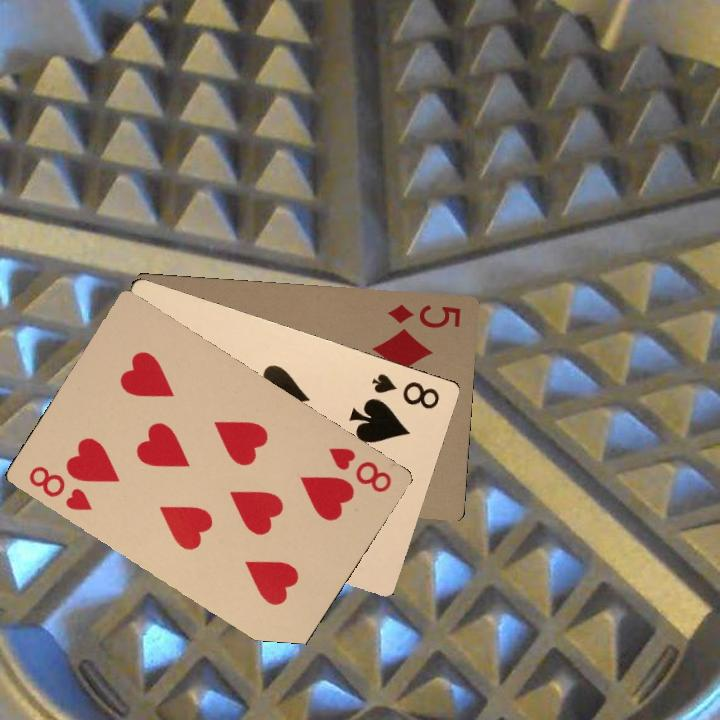5d: (385, 300, 463, 331)
8h: (324, 443, 394, 496), (24, 461, 94, 514)
8s: (368, 369, 442, 412)
